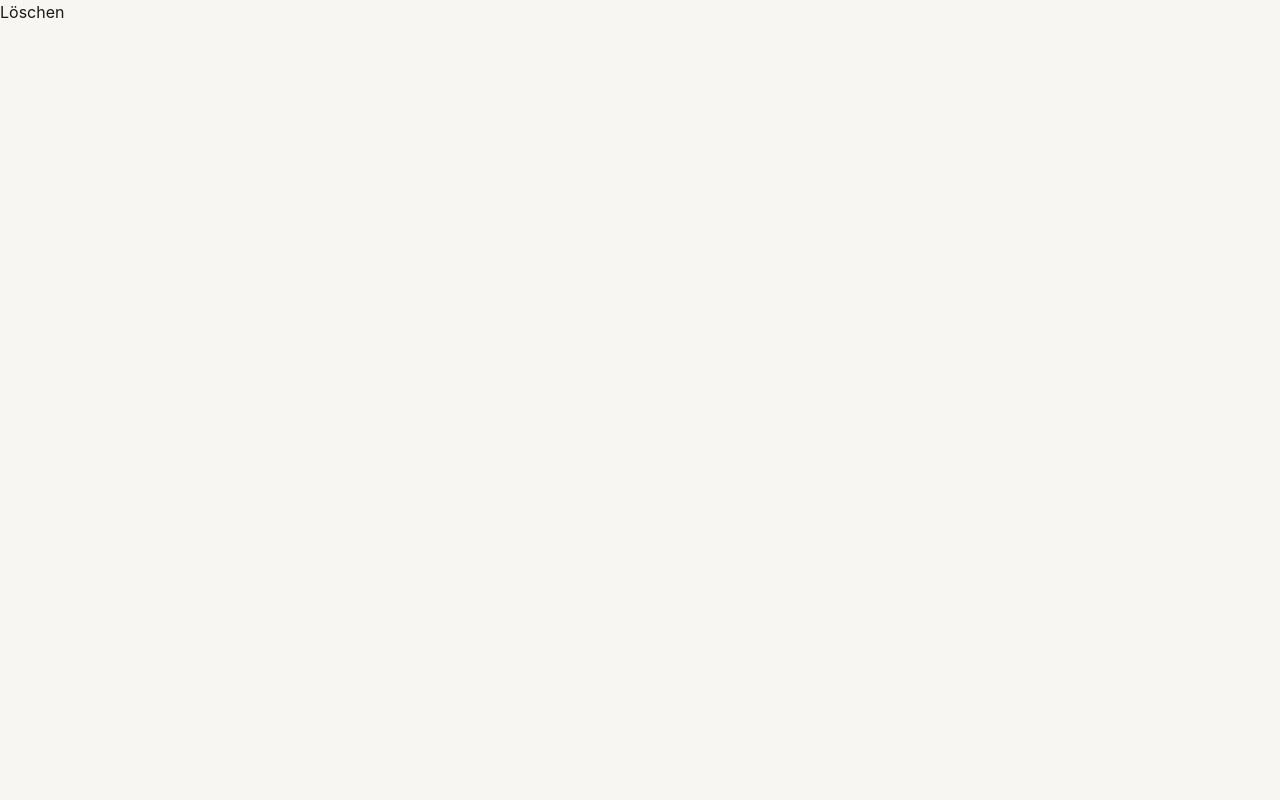
Test: confirmFormSubmission › sendet bei Abbruch nichts
The width and height of the screenshot is (1280, 800).
Submit the form, box [0,0,64,24]
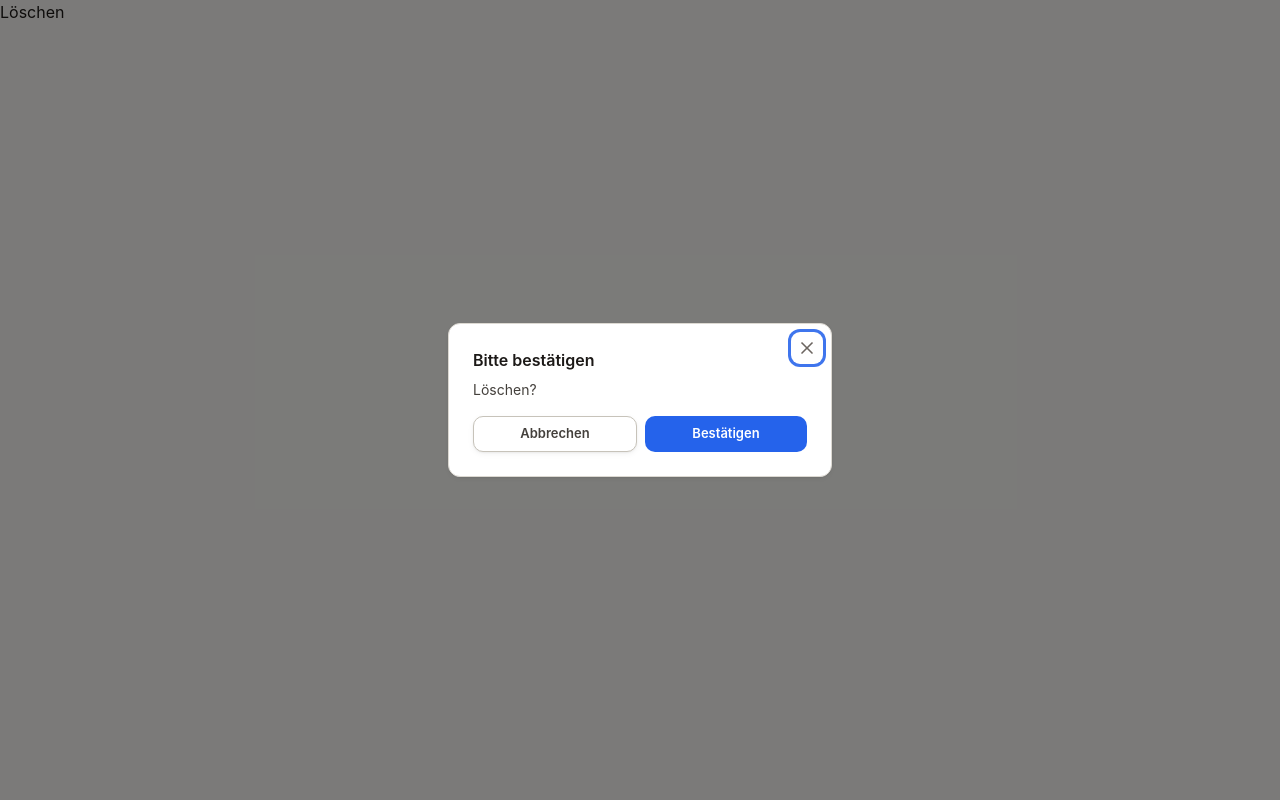
Expected: the dialog "Bitte bestätigen" is shown, [448,323,832,477]
Click the button "Abbrechen" at (555, 434), box [473,416,637,452]
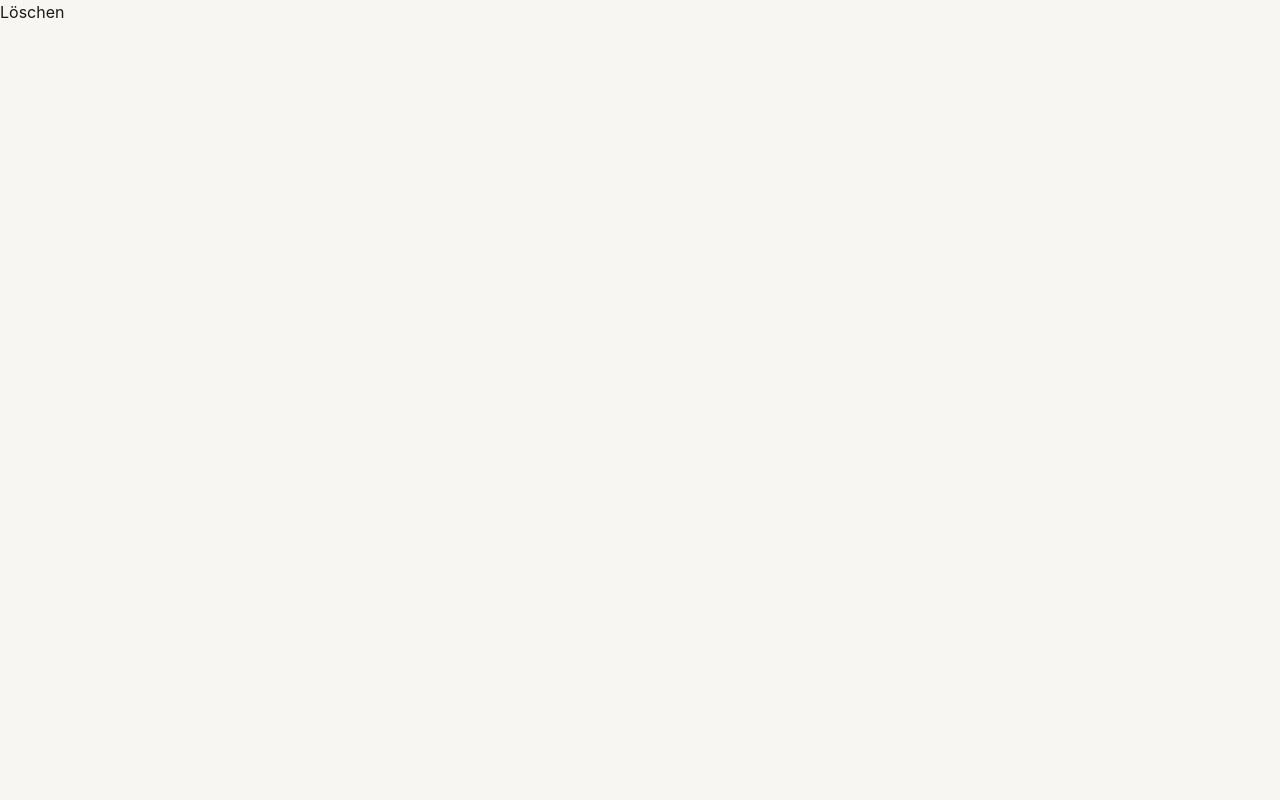
Expected: the dialog is gone
